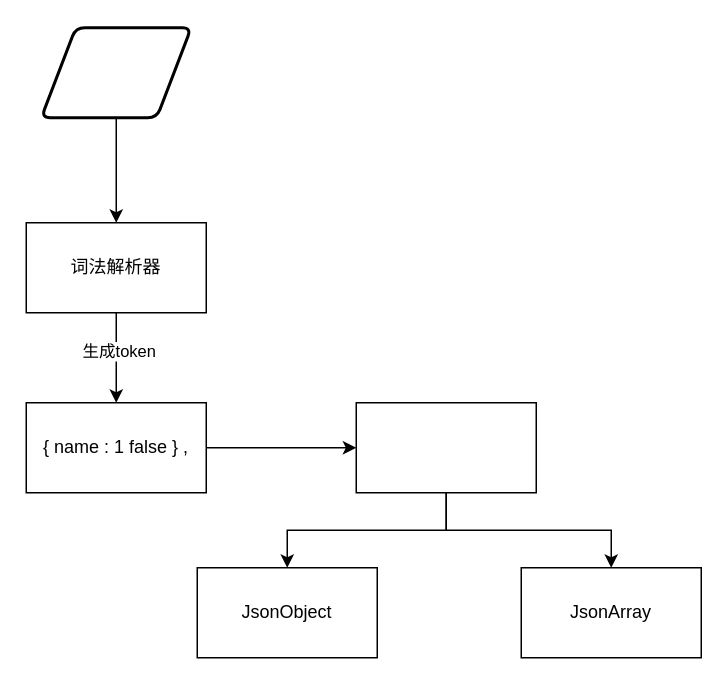
This 728x684 diagram has some shape labels left out. Each missing label, with the box of its shape:
json字符串: (39, 26, 192, 118)
语法解析器: (355, 401, 536, 493)
